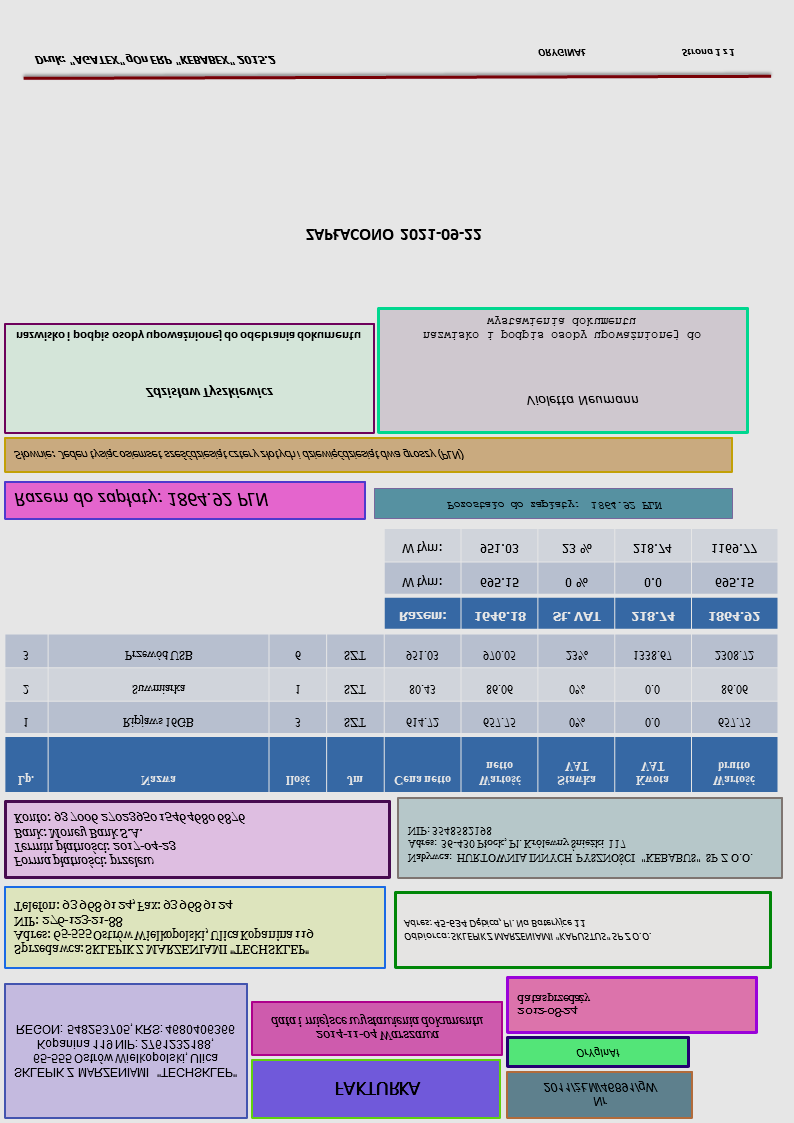Table: (2, 633, 778, 795), (382, 527, 778, 630)
TextBox: (10, 896, 317, 961), (403, 821, 754, 866), (10, 808, 249, 872), (10, 1020, 238, 1082), (419, 314, 707, 345), (10, 446, 466, 464), (400, 916, 651, 947), (268, 1011, 486, 1043), (9, 485, 270, 511), (11, 328, 364, 346), (30, 50, 280, 71), (539, 1077, 661, 1111), (302, 225, 486, 245), (532, 45, 739, 62), (441, 499, 664, 514), (143, 383, 275, 405), (512, 988, 592, 1021), (522, 391, 639, 411), (332, 1077, 424, 1099), (573, 1044, 623, 1061)
